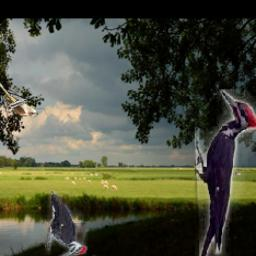Cuckoo: (0, 78, 39, 116)
Woodpecker: (195, 90, 256, 256), (44, 190, 86, 256)
